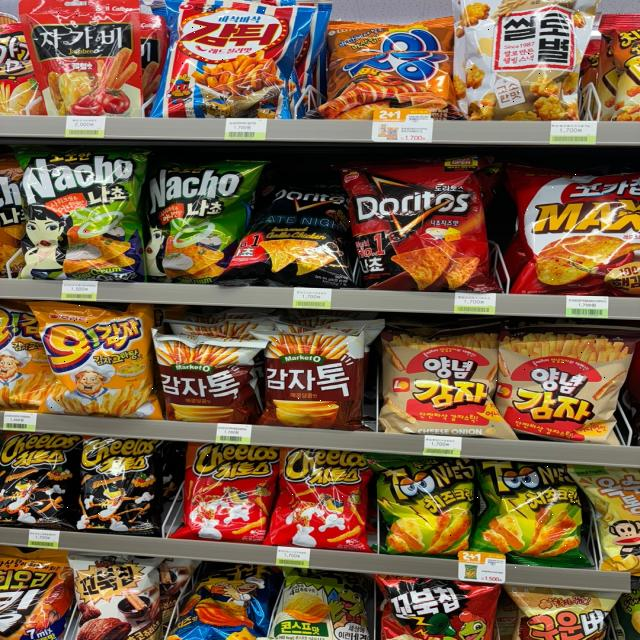product: (340, 166, 495, 290), (12, 145, 146, 274), (460, 2, 591, 115), (178, 2, 303, 116), (522, 173, 640, 293), (25, 1, 146, 117), (35, 300, 153, 412), (382, 333, 507, 433), (480, 457, 592, 568), (510, 337, 624, 441), (378, 451, 480, 557), (174, 436, 272, 538), (281, 442, 376, 547), (261, 337, 360, 427), (78, 434, 164, 530), (5, 431, 73, 528)
